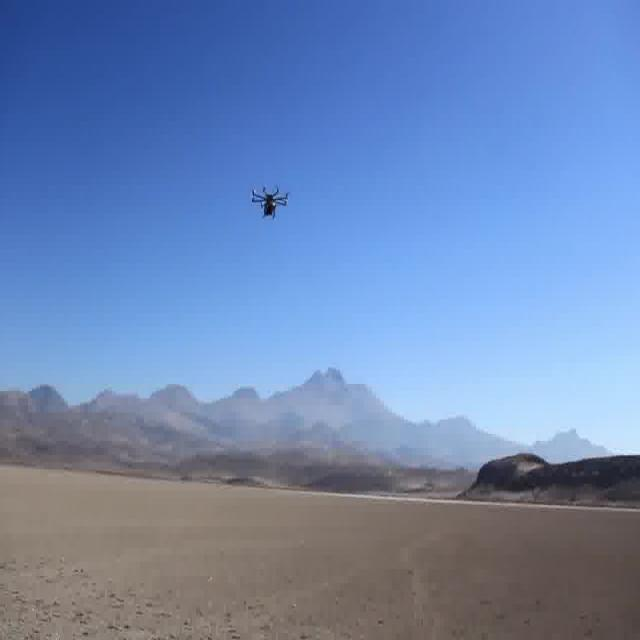Drone_FW: (251, 184, 289, 220)
